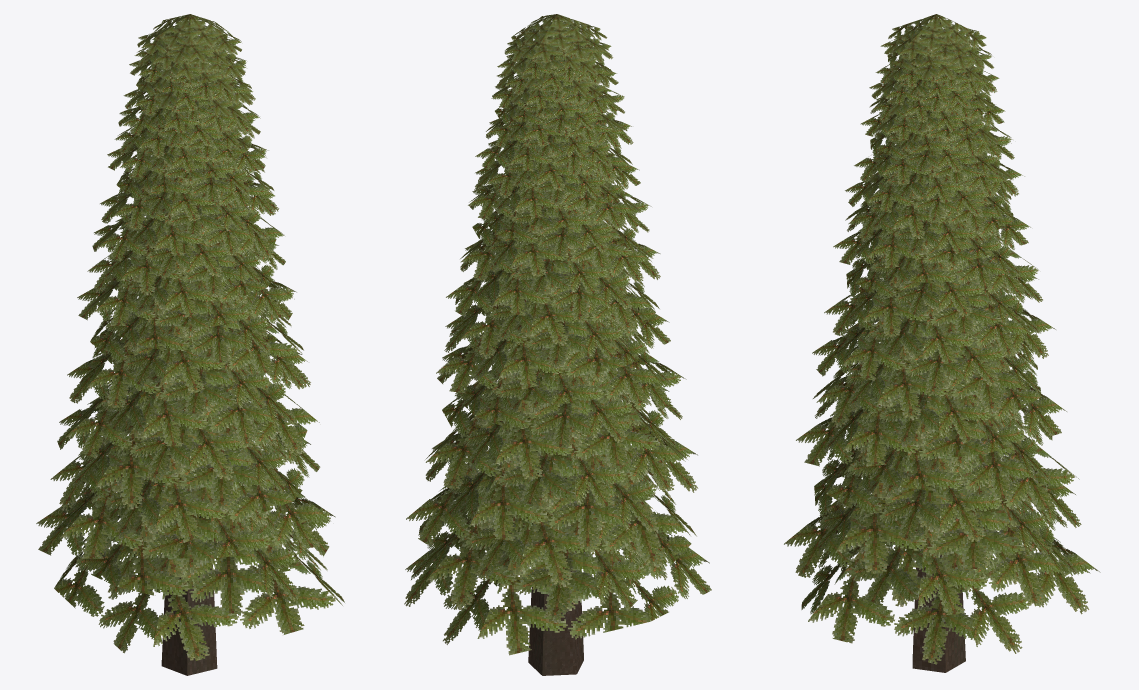
Rendered from tree.glb.
3 renders of one model, left to right at view 1: azimuth 30°, elevation 25°; view 2: azimuth 150°, elevation 25°; view 3: azimuth 270°, elevation 25°, orthographic.
Parts seen in each view (by area): view 1: tree; view 2: tree; view 3: tree.
Boxes of the visible parts, bbox=[...] form: tree: bbox=[36, 14, 344, 675]; tree: bbox=[404, 14, 711, 675]; tree: bbox=[784, 14, 1100, 672].
Bounding box in the file's own units: 5.91 × 12.16 × 6.18.
Materials: 2 (2 with a texture image).
